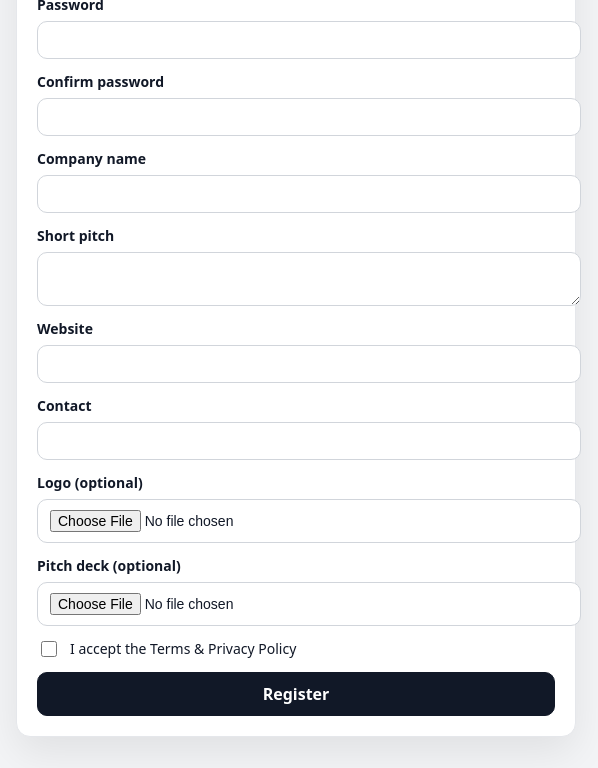
Test case: RegisterStartup › blocks submit and shows inline errors when invalid
(page scrolled)
Step 1. Click the button "Register" → click(296, 694), box [37,672,555,716]
(page scrolled)
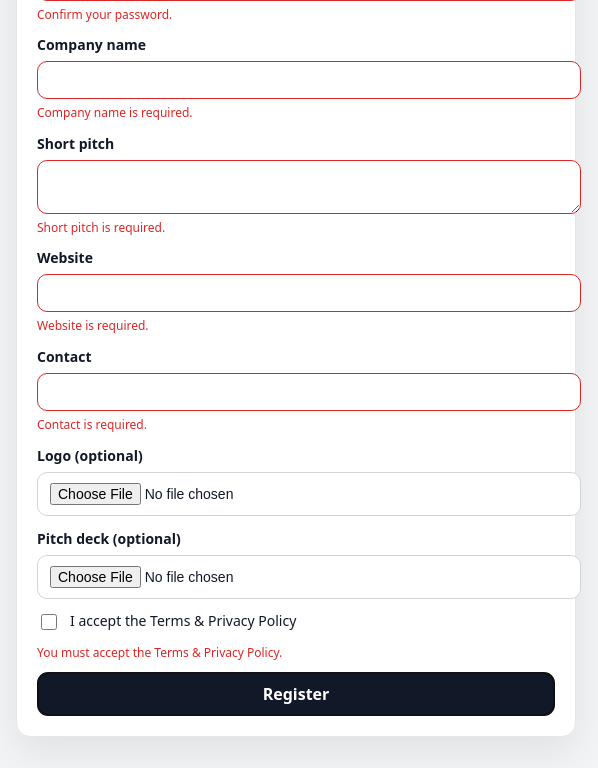
Expected: the text "Confirm your password." is shown, [37,6,172,23]
Expected: the text "Company name is required." is shown, [37,104,192,121]
Expected: the text "Short pitch is required." is shown, [37,219,165,236]
